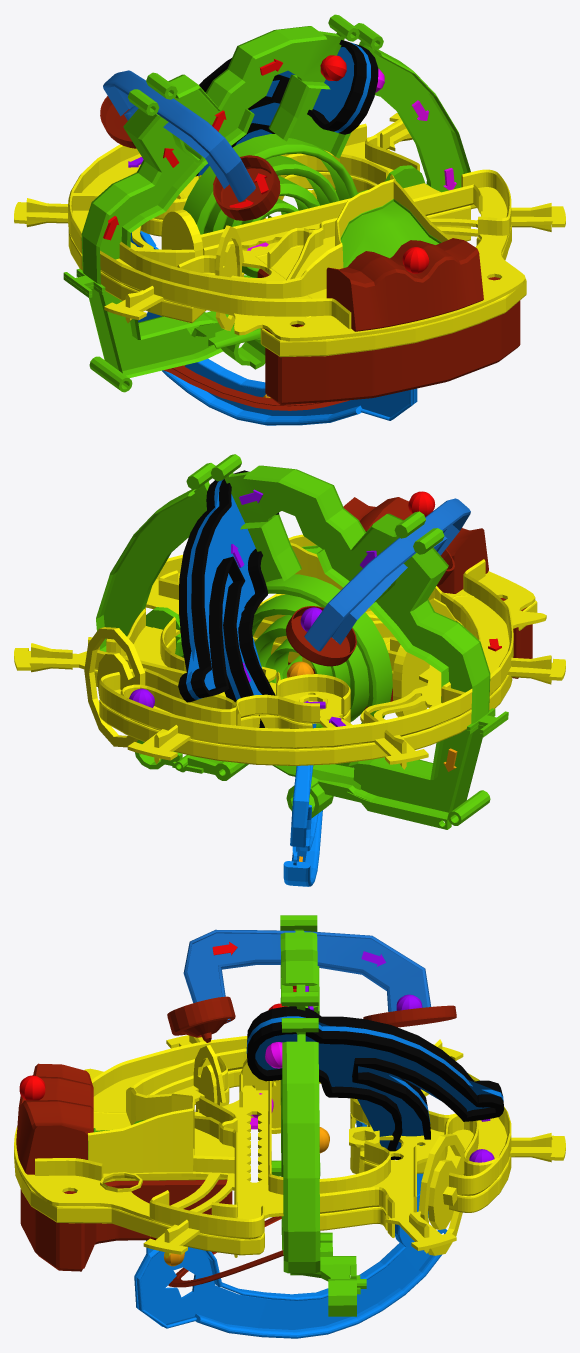
The model's file is Maze_Ball_Final_15.0.fbx.
3 renders of one model, top to bottom at view 1: azimuth 30°, elevation 25°; view 2: azimuth 150°, elevation 25°; view 3: azimuth 270°, elevation 25°, orthographic.
Parts seen in each view (by area): view 1: Yellow, Green, Back_Red_Part, Start_Red_Part, Blue, Blue_Part, Block, Blue_Part_3_Wall, Beside, Red_Line, Beside_1, pSphere1 (+1 smaller); view 2: Green, Yellow, Blue_Part, Blue, Start_Red_Part, Blue_Part_3_Wall, Beside_1, Block, Back_Red_Part; view 3: Yellow, Blue, Blue_Part, Green, Block, Start_Red_Part, Back_Red_Part, Blue_Part_3_Wall, Beside, Beside_1, Red_Line, pSphere1.
Boxes of the visible parts, x1,y1,x2,y2 form: Yellow: [14, 113, 565, 356]; Green: [63, 14, 470, 392]; Back_Red_Part: [257, 269, 520, 404]; Start_Red_Part: [326, 238, 483, 331]; Blue: [103, 70, 415, 419]; Blue_Part: [195, 40, 378, 176]; Block: [335, 178, 450, 267]; Blue_Part_3_Wall: [140, 231, 417, 425]; Beside: [213, 155, 280, 220]; Red_Line: [164, 365, 349, 410]; Beside_1: [100, 96, 136, 148]; pSphere1: [402, 247, 429, 273]; Green: [96, 454, 508, 829]; Yellow: [14, 555, 565, 769]; Blue_Part: [178, 470, 278, 727]; Blue: [292, 498, 470, 865]; Start_Red_Part: [343, 497, 488, 593]; Blue_Part_3_Wall: [283, 723, 322, 886]; Beside_1: [286, 606, 356, 666]; Block: [262, 534, 370, 611]; Back_Red_Part: [288, 598, 532, 710]; Yellow: [14, 1035, 565, 1258]; Blue: [134, 929, 447, 1329]; Blue_Part: [246, 1006, 504, 1159]; Green: [271, 915, 366, 1316]; Block: [87, 1093, 234, 1173]; Start_Red_Part: [16, 1063, 93, 1174]; Back_Red_Part: [20, 1179, 232, 1271]; Blue_Part_3_Wall: [134, 1120, 442, 1338]; Beside: [167, 996, 235, 1042]; Beside_1: [363, 1005, 456, 1027]; Red_Line: [168, 1216, 283, 1287]; pSphere1: [19, 1075, 45, 1100].
Size of the model in its own units: 24.97 by 20.43 by 26.62.
